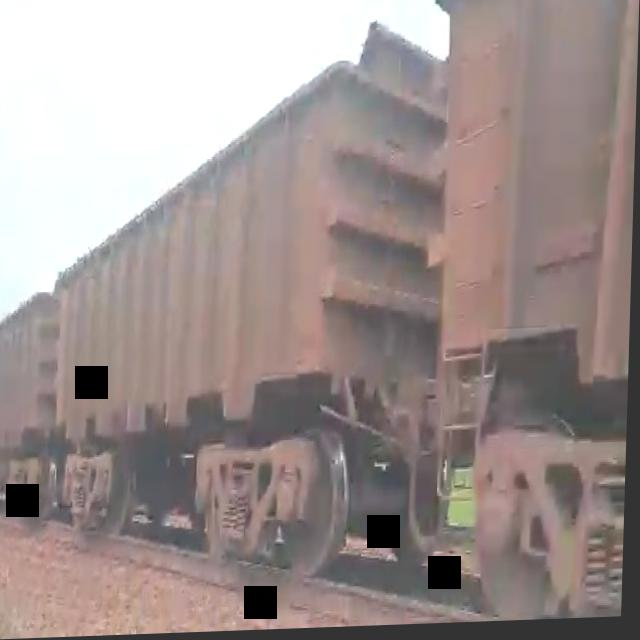gondola: (45, 7, 450, 614), (432, 0, 640, 627)
